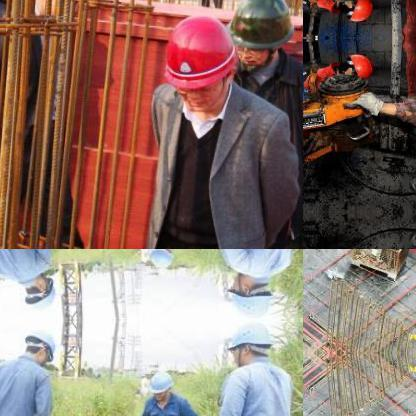Helmet: (164, 11, 238, 111), (228, 0, 295, 66), (221, 322, 280, 366), (221, 270, 280, 314), (33, 0, 109, 21), (19, 326, 56, 366), (19, 270, 56, 310), (333, 52, 373, 80), (145, 366, 173, 400), (333, 0, 374, 21), (144, 249, 173, 271)
